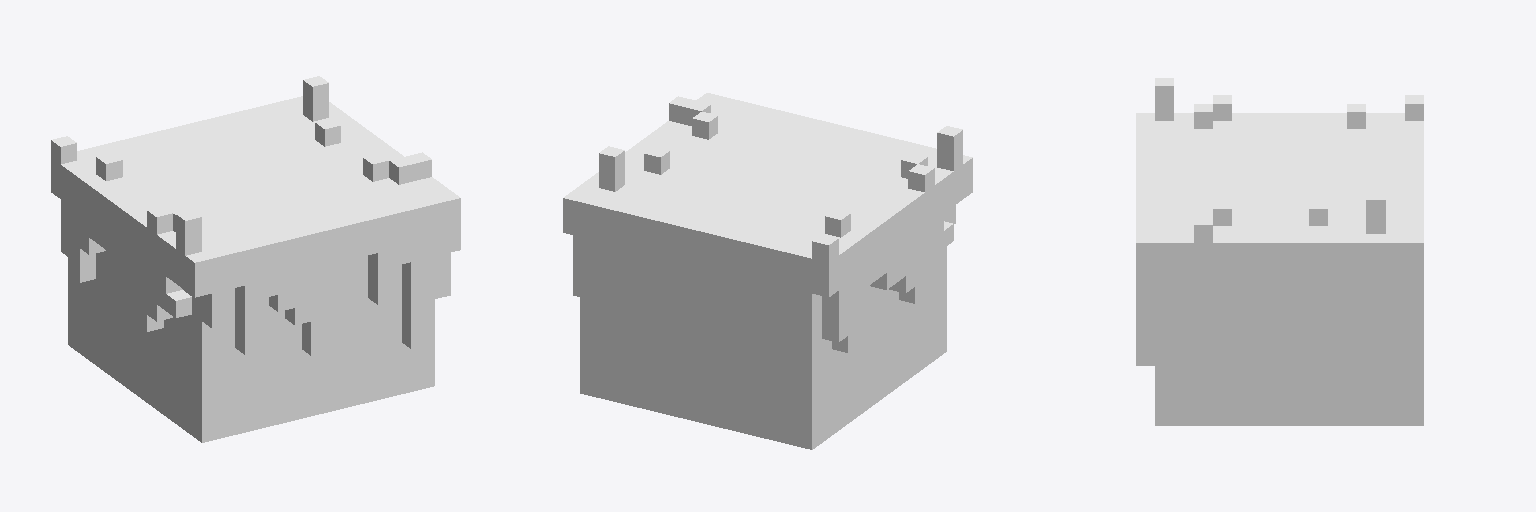
The model's file is sueloPlataform-1.obj.
3 views of the same model, side by side, from view 1: azimuth 30°, elevation 25°; view 2: azimuth 150°, elevation 25°; view 3: azimuth 270°, elevation 25° (orthographic).
Parts seen in each view (by area): view 1: object 1; view 2: object 1; view 3: object 1.
Boxes of the visible parts, x1=… form: object 1: x1=51, y1=76, x2=460, y2=442; object 1: x1=563, y1=93, x2=972, y2=449; object 1: x1=1136, y1=78, x2=1423, y2=425.
Size of the model in its own units: 1.6 by 1.3 by 1.5.